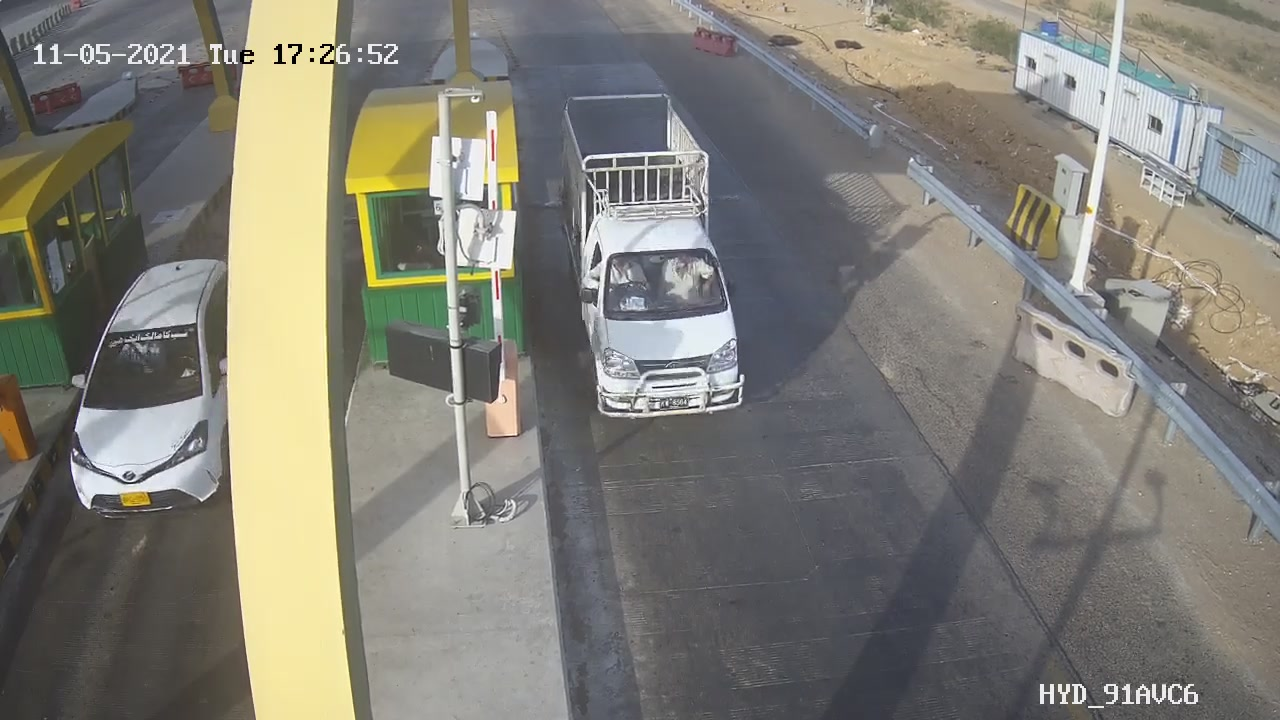F2: (535, 73, 768, 436)
